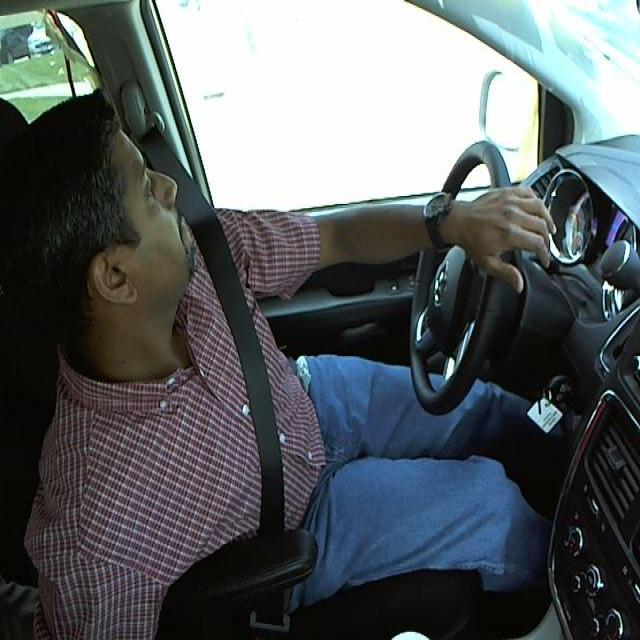seatbelt: (194, 247, 308, 541)
